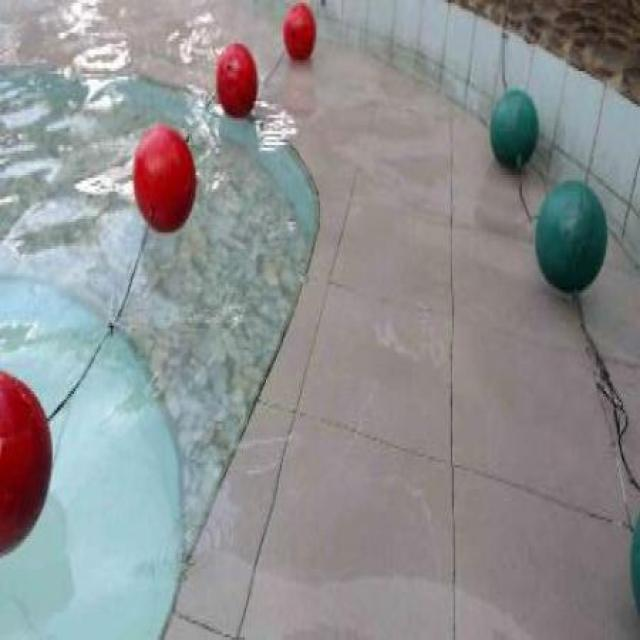buoy: (0, 367, 53, 557), (535, 180, 607, 296), (132, 124, 196, 237), (490, 88, 538, 164), (215, 41, 256, 118), (282, 2, 316, 63)
